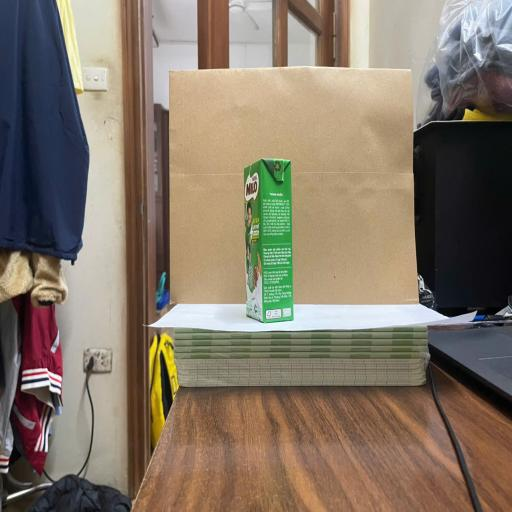milo: (245, 159, 292, 321)
